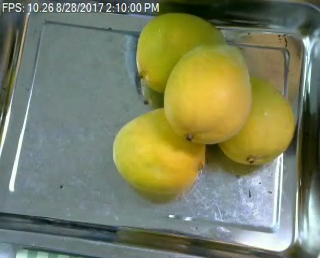Mango: (165, 45, 252, 143), (111, 107, 206, 192), (214, 74, 293, 166), (135, 13, 226, 90)
